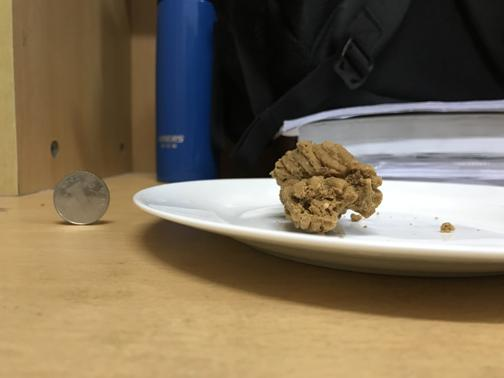coin: (50, 170, 108, 225)
fired_dough_twist: (270, 138, 382, 229)
